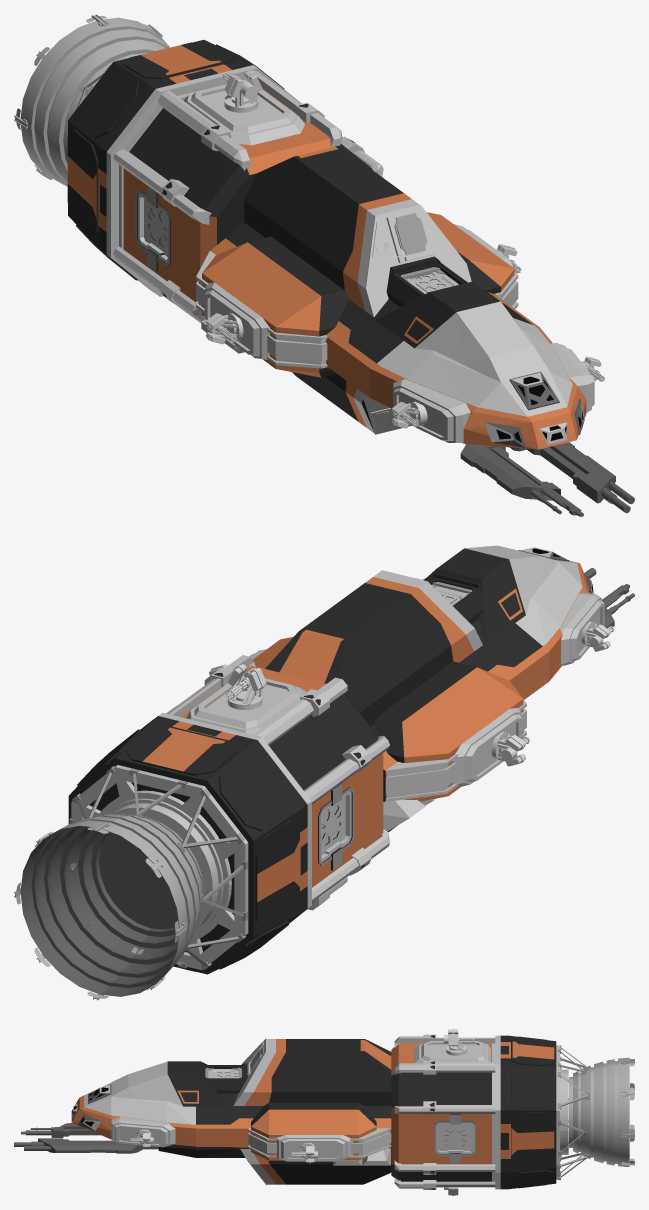
File: Rocinante.glb
The picture shows the model from 3 angles, top to bottom: view 1: azimuth 30°, elevation 25°; view 2: azimuth 150°, elevation 25°; view 3: azimuth 270°, elevation 25°; orthographic projection. The views are drawn at different scales.
Visible parts, largest first — view 1: Material2 (×29), Material3 (×19); view 2: Material2 (×29), Material3 (×17); view 3: Material2 (×41), Material3 (×21).
Boxes of the visible parts, <box> form: Material2 (×29): <box>20,17,634,516</box>; Material3 (×19): <box>106,65,586,449</box>; Material2 (×29): <box>68,548,604,980</box>; Material3 (×17): <box>20,551,582,996</box>; Material2 (×41): <box>14,1035,629,1189</box>; Material3 (×21): <box>71,1034,554,1189</box>.
Size of the model in its own units: 13.35 by 11.08 by 38.51.
